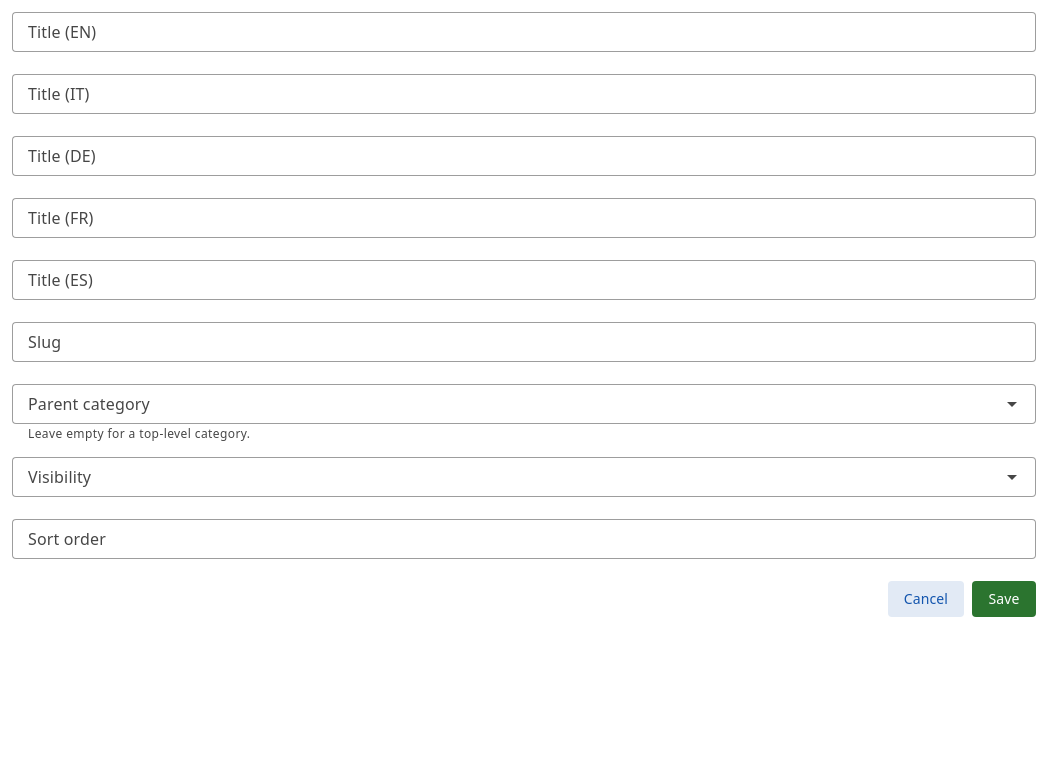
Scenario: KbCategoryForm › an empty submit sends nothing; a bad slug is rejected client-side
In the field labelled "Slug": (524, 342) [12, 322, 1036, 362], type "Not A Slug"
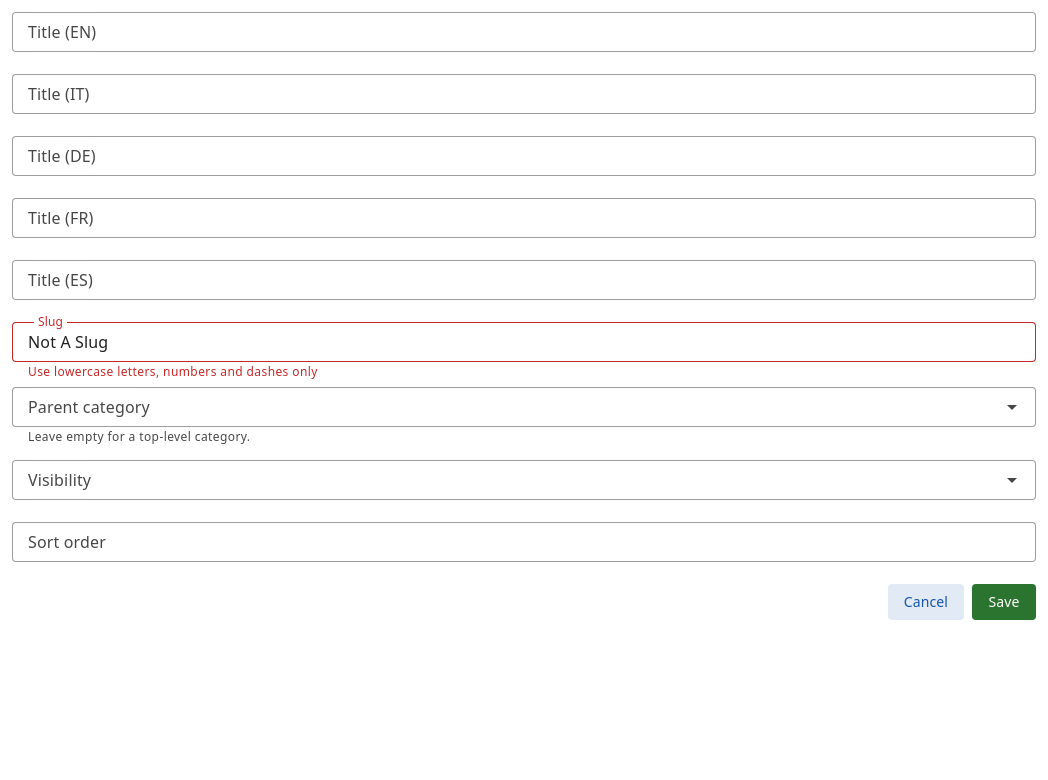
Submit the form
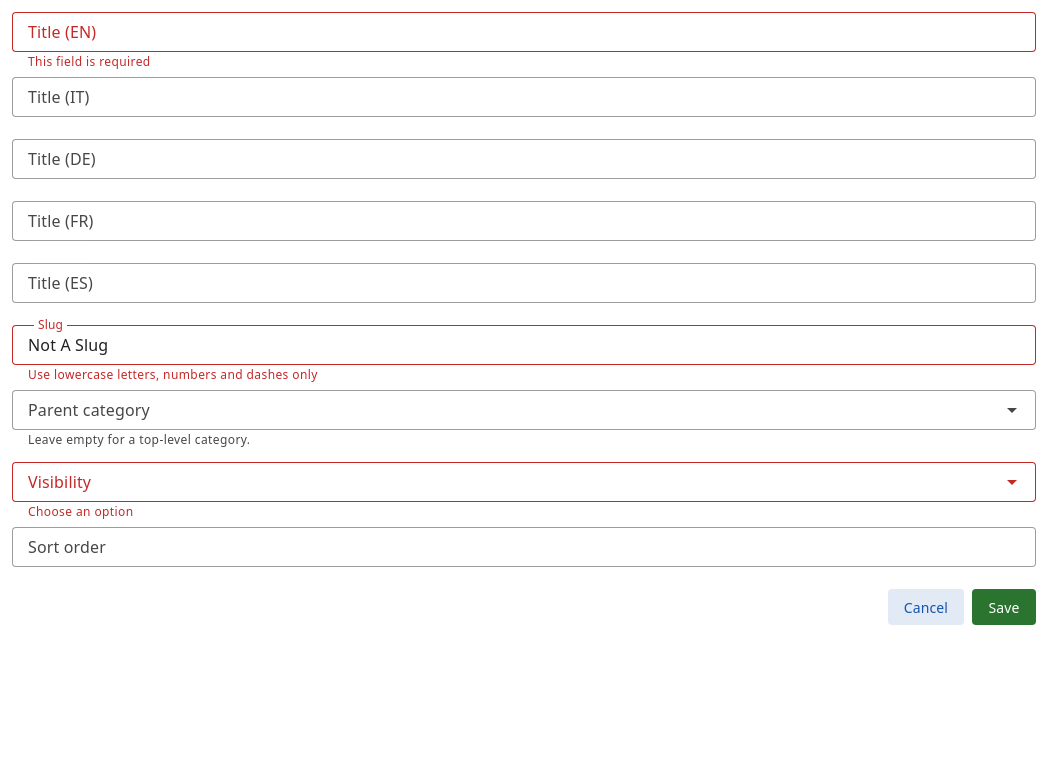
Check: the form shows "Use lowercase letters, numbers and dashes only", box [28, 366, 318, 383]
Check: the form shows "This field is required", box [28, 53, 151, 70]
